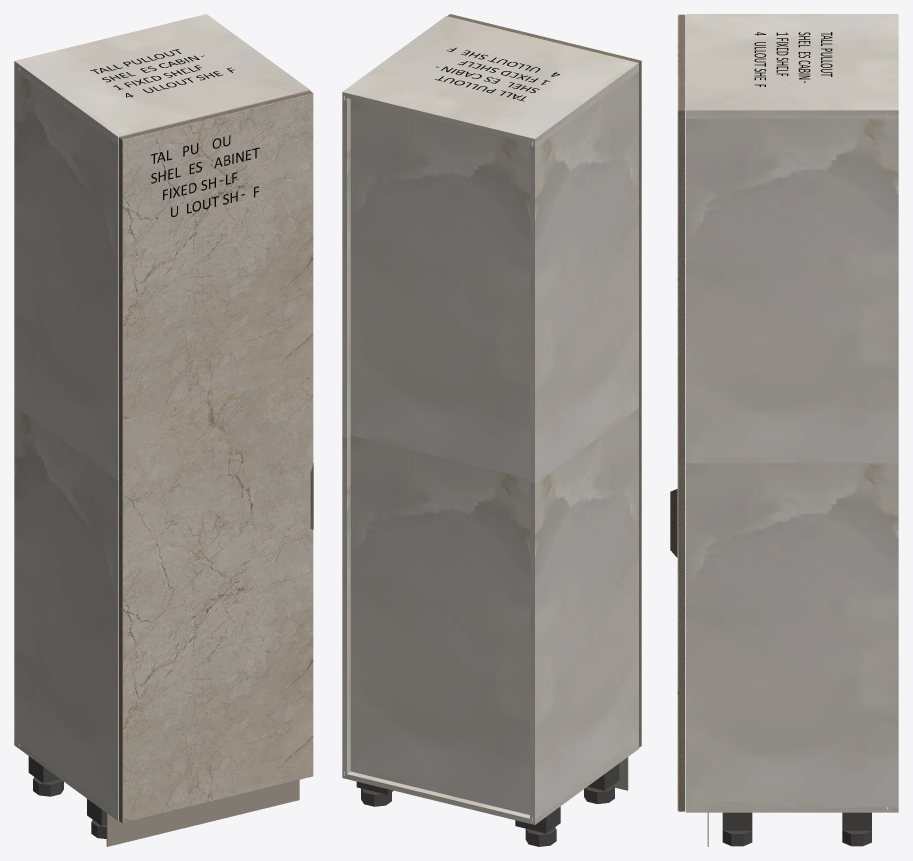
Rendered from TALL PULLOUT SHELVES CABINET 1 FIXED SHELF 4 PULLOUT SHELF (H2040xW600xD560) TC4PS1FS1HS_LH.glb.
3 views of the same model, side by side, from view 1: azimuth 30°, elevation 25°; view 2: azimuth 150°, elevation 25°; view 3: azimuth 270°, elevation 25° (orthographic). The views are drawn at different scales.
Size of what is drawn, in the model's own units: 0.6 by 2.15 by 0.6011.
9 materials, 3 textured.
